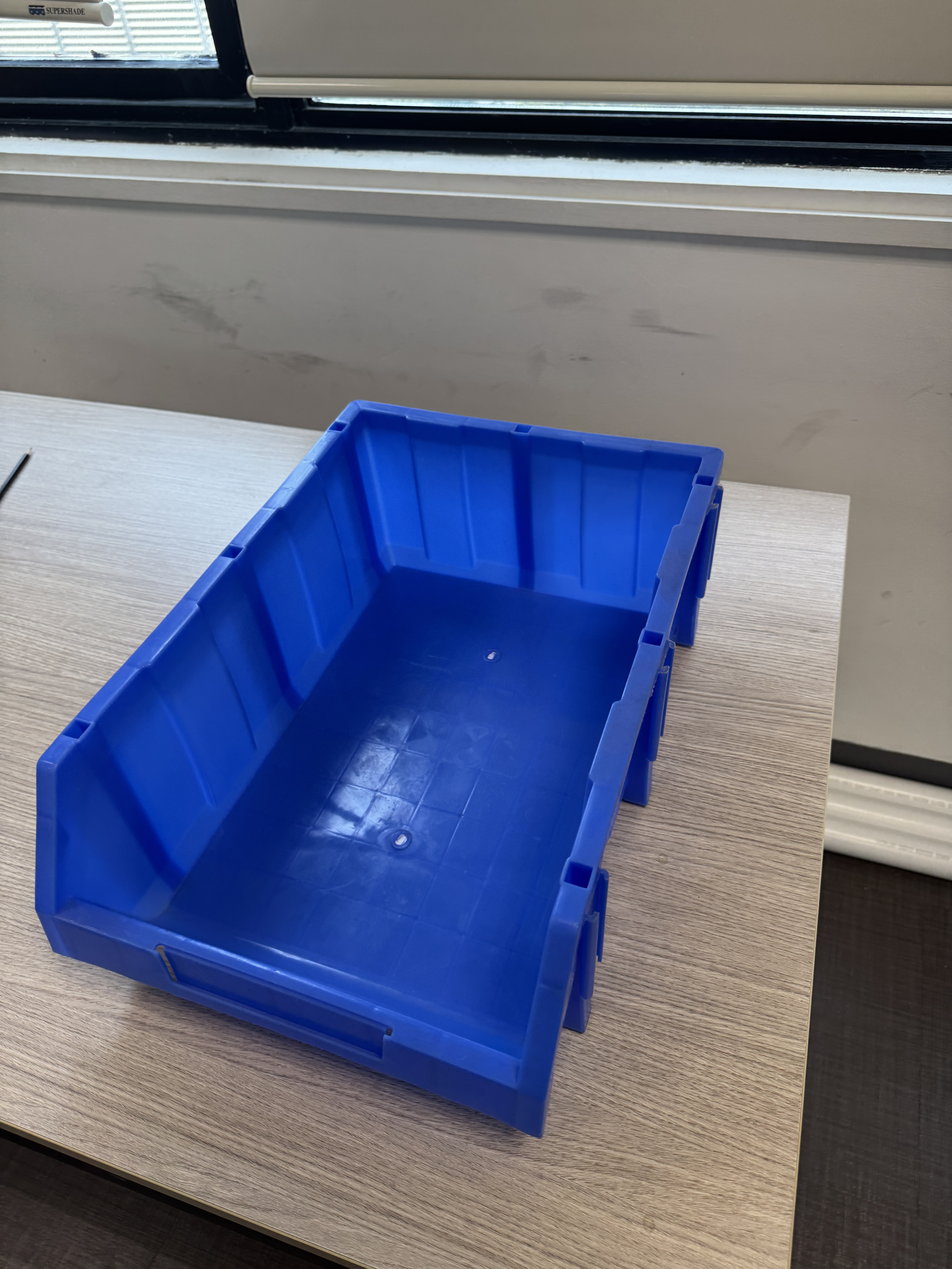Bin Boundary: (12, 296, 713, 1069)
